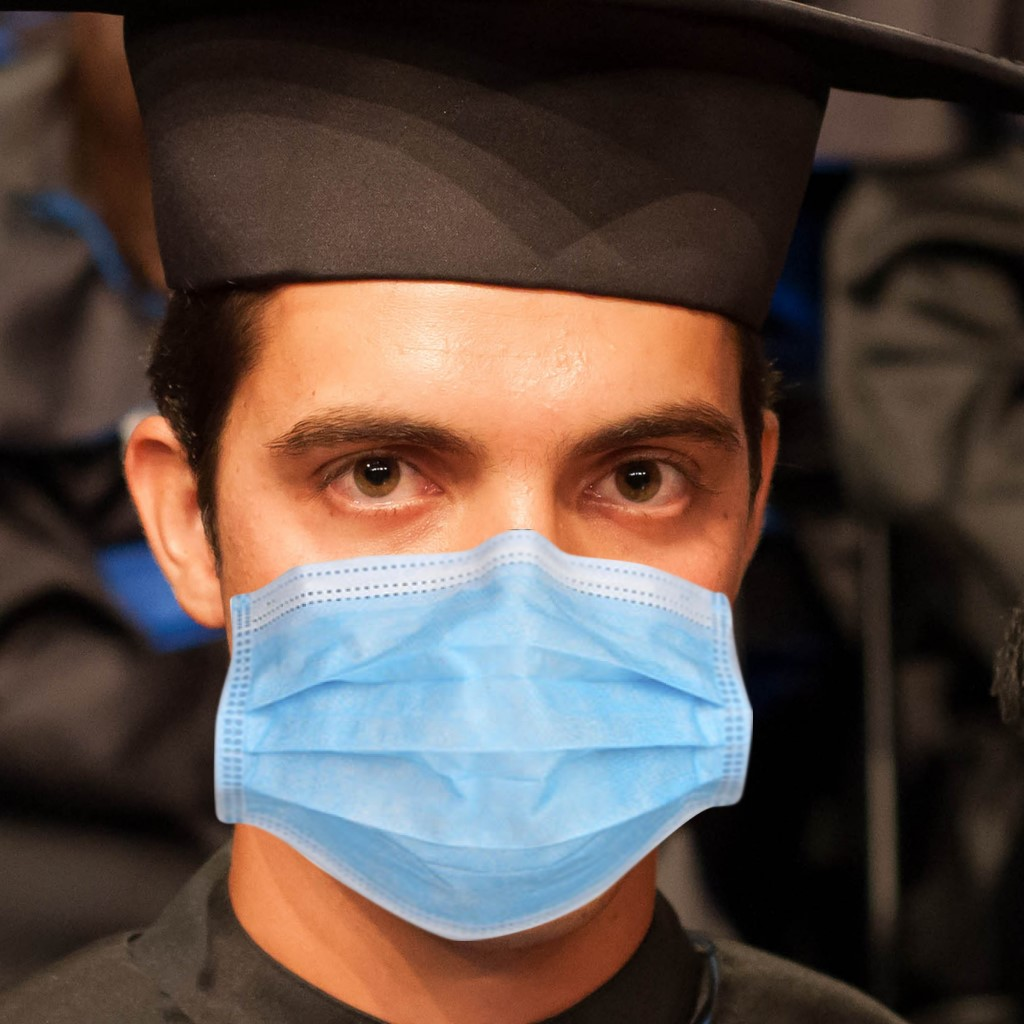con_mascara: (179, 240, 779, 964)
